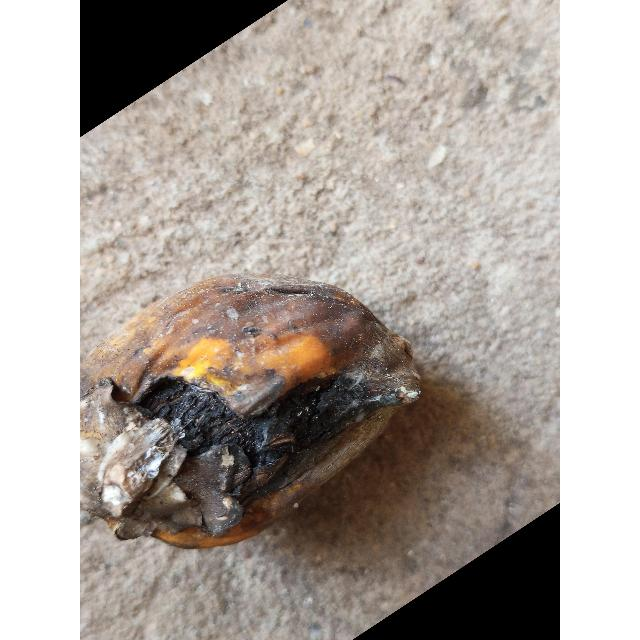damaged: (80, 276, 422, 554)
